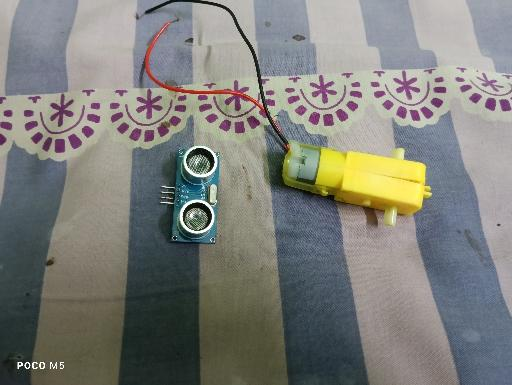Motor: (282, 139, 432, 228)
sensor: (160, 145, 220, 244)
